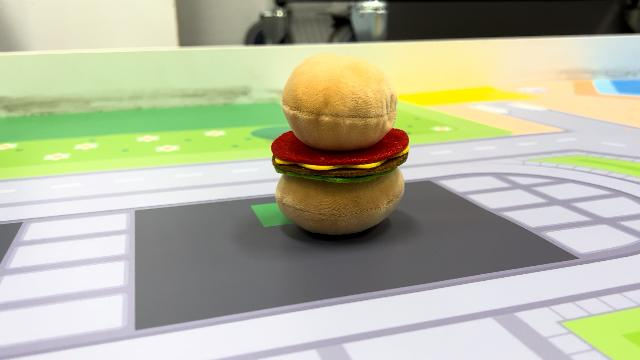burger: (267, 50, 413, 238)
